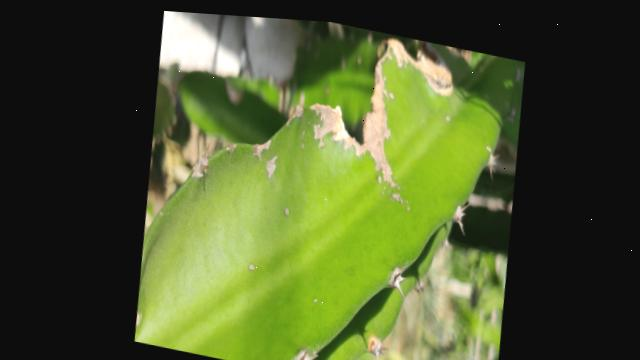stemcanker: (236, 249, 268, 281), (276, 205, 299, 226)
